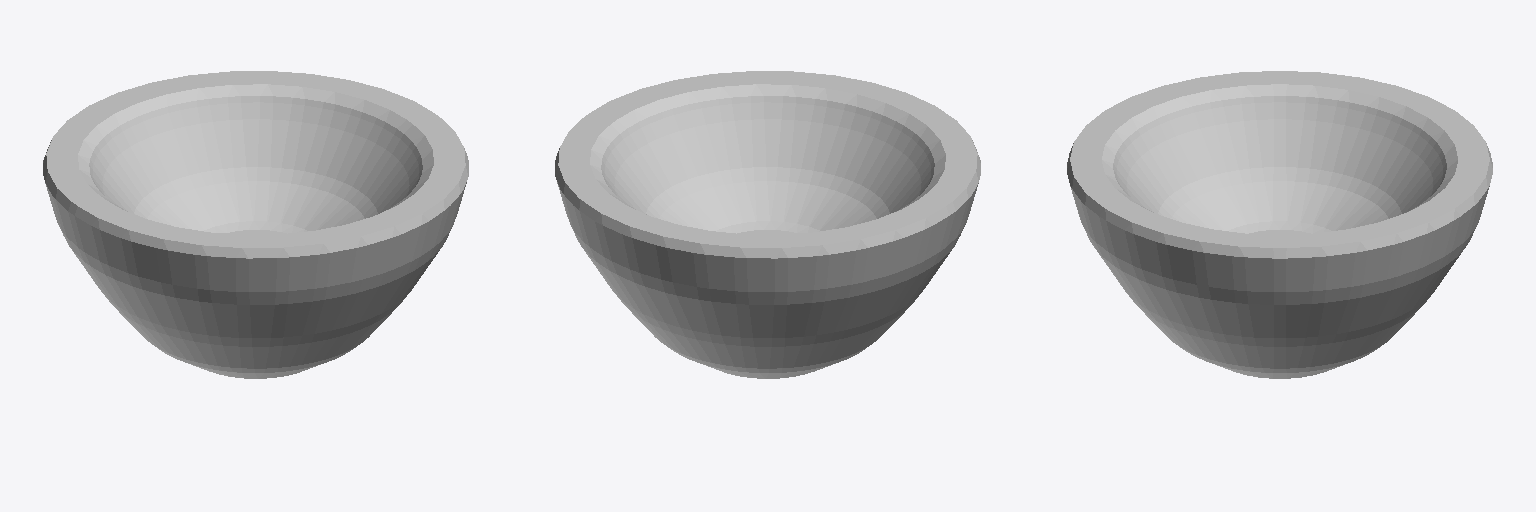
File: bowl2.obj
3 renders of one model, left to right at view 1: azimuth 30°, elevation 25°; view 2: azimuth 150°, elevation 25°; view 3: azimuth 270°, elevation 25°, orthographic.
Visible parts, largest first — view 1: Cylinder.001; view 2: Cylinder.001; view 3: Cylinder.001.
Part boxes in pixels (x1,y1,x2,y2): Cylinder.001: (43, 71, 468, 378); Cylinder.001: (555, 71, 980, 378); Cylinder.001: (1067, 71, 1492, 378).
Size of the model in its own units: 1.5 by 0.75 by 1.5.